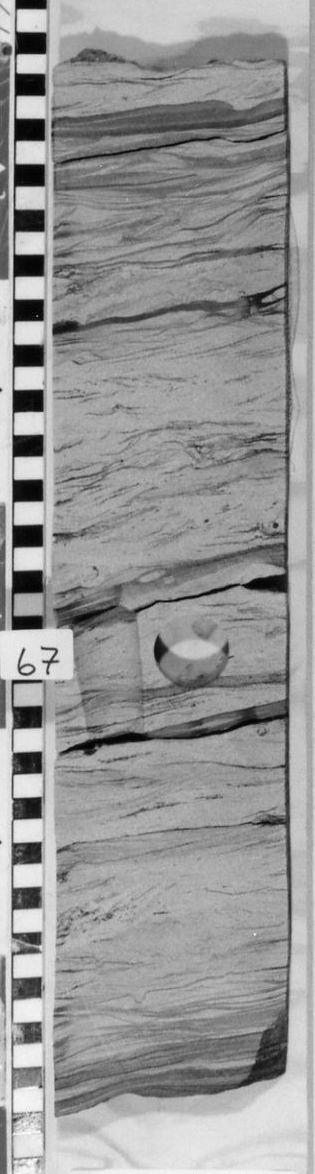hplug: (145, 608, 237, 697)
vplug: (59, 584, 154, 747)
